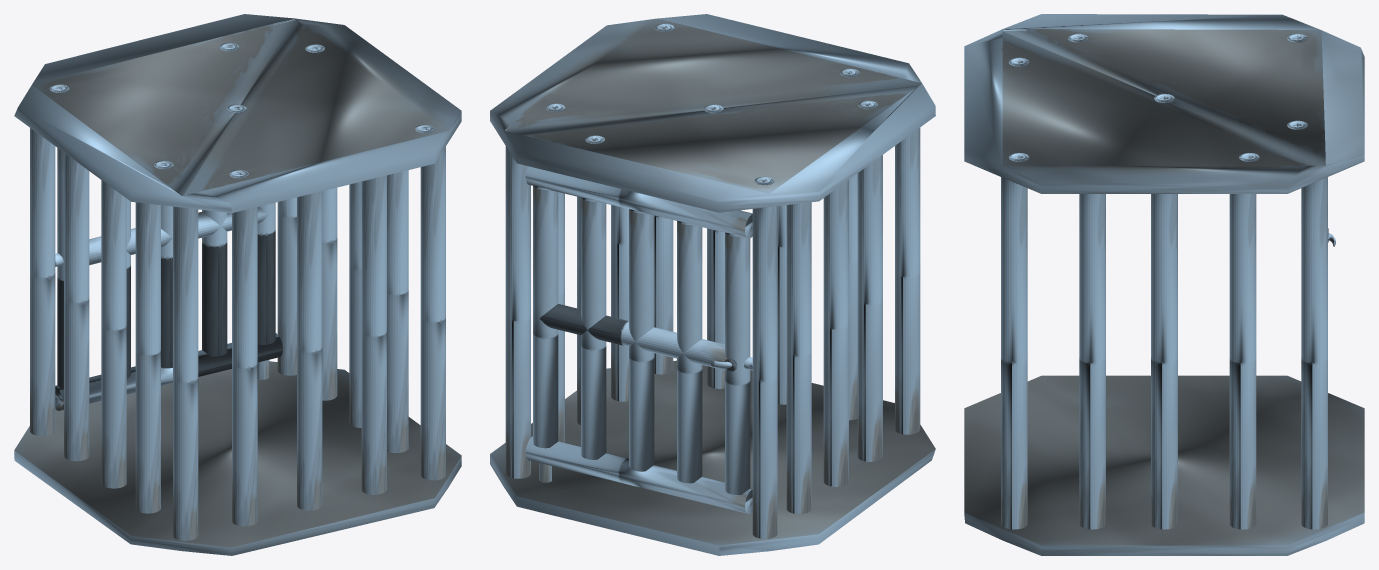
Rendered from cage.fbx.
3 renders of one model, left to right at view 1: azimuth 30°, elevation 25°; view 2: azimuth 150°, elevation 25°; view 3: azimuth 270°, elevation 25°, orthographic. The views are drawn at different scales.
Visible parts, largest first — view 1: Cylinder.002, Cylinder.003; view 2: Cylinder.002, Cylinder.003; view 3: Cylinder.002.
Part boxes in pixels (x1,y1,x2,y2): Cylinder.002: (14, 14, 461, 555); Cylinder.003: (55, 148, 282, 410); Cylinder.002: (490, 14, 935, 555); Cylinder.003: (525, 166, 752, 513); Cylinder.002: (964, 14, 1364, 555).
Size of the model in its own units: 600 by 622 by 600.
Materials: 19 (19 with a texture image).
